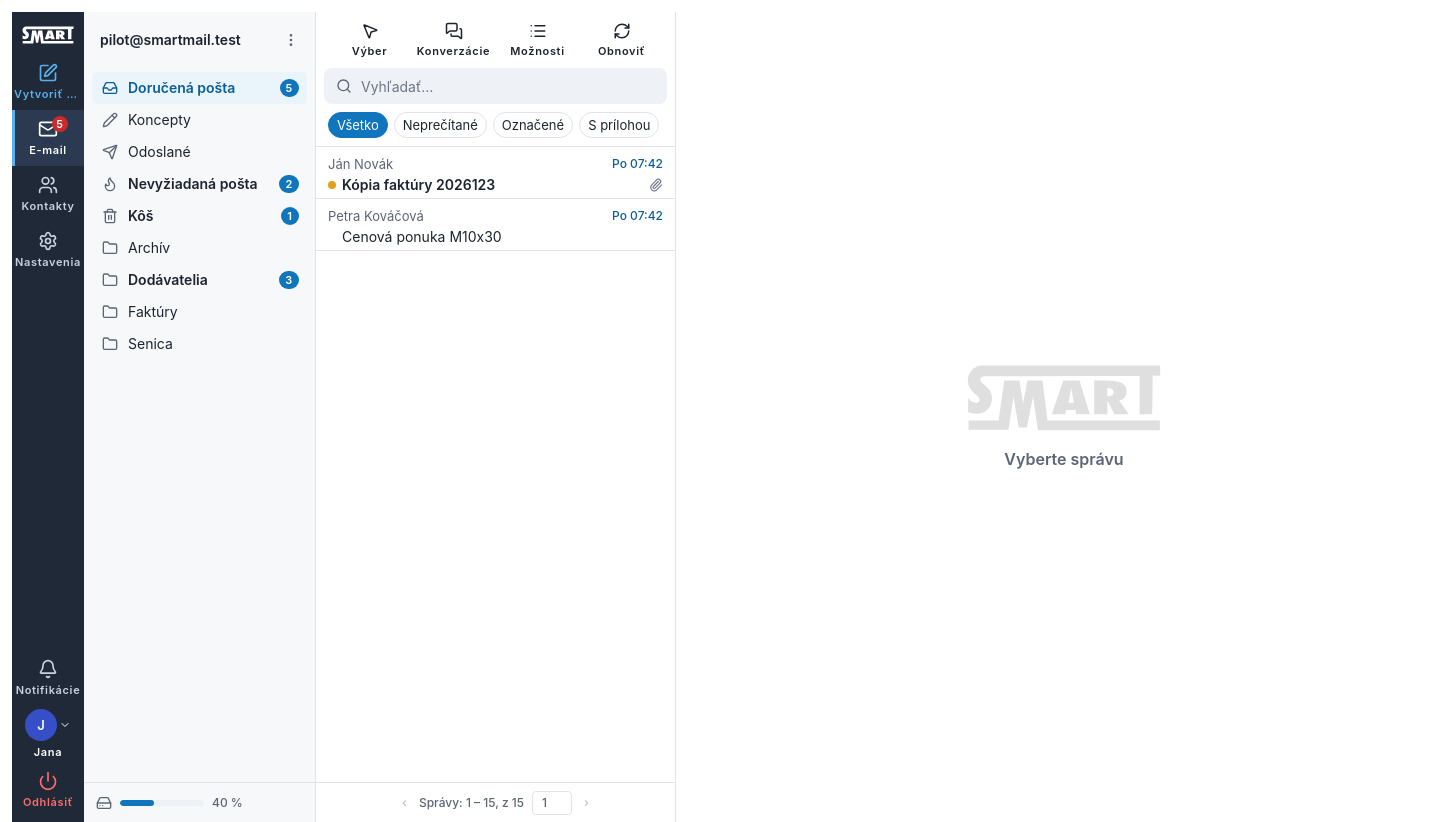
Test: W2 shell and folder column (1c) › W2 list rows show sender and subject; click opens the reading pane
Expected: the text "Ján Novák" is shown, [328,156,393,172]
Click the text "Kópia faktúry 2026123". click: (419, 184)
box: [342,176,495,193]
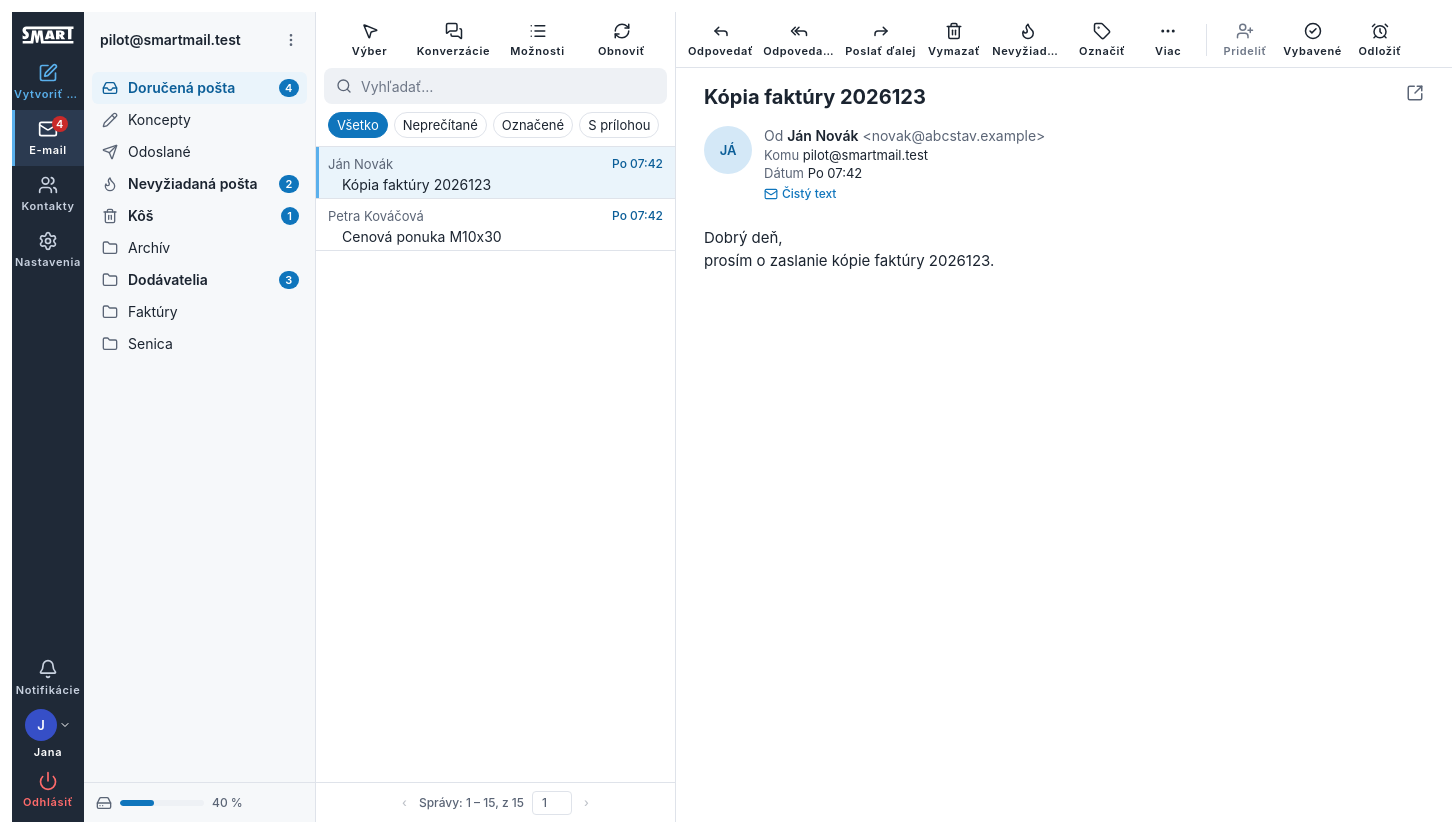
Now the heading "Kópia faktúry 2026123" is shown, box [704,85,926,109]
Now the text "prosím o zaslanie kópie faktúry 2026123." is shown, box [704,251,994,270]
